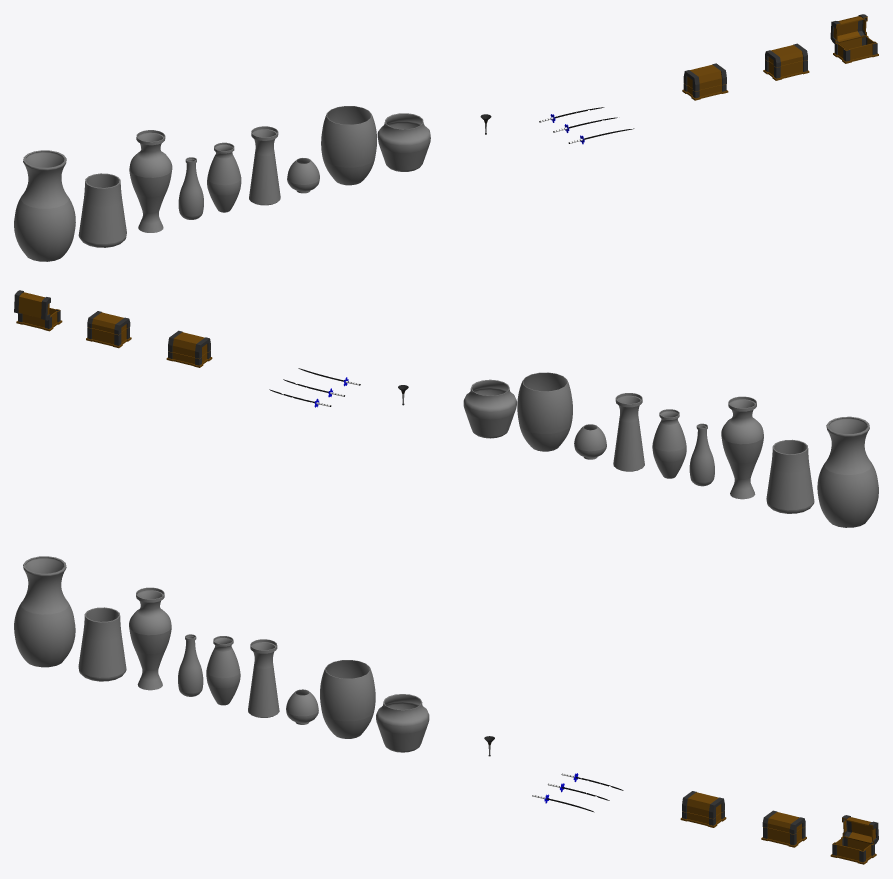
Rendered from deneme2.fbx.
The picture shows the model from 3 angles, top to bottom: view 1: azimuth 30°, elevation 25°; view 2: azimuth 150°, elevation 25°; view 3: azimuth 330°, elevation 25°; orthographic projection.
Parts seen in each view (by area): view 1: Shape020, Shape019, Layer:0, Shape013, Shape018, Shape017, Shape015, Shape014, Box001, Shape016, Box004, Box005; view 2: Shape020, Shape019, Shape013, Layer:0, Shape018, Shape017, Shape015, Shape014, Shape016, Box001, Box005; view 3: Shape020, Shape019, Layer:0, Shape013, Shape018, Shape017, Shape015, Shape014, Shape016, Box001, Box004, Box005.
Boxes of the visible parts, x1,y1,x2,y2 form: Shape020: (14, 150, 75, 261); Shape019: (321, 106, 376, 185); Layer:0: (78, 173, 126, 247); Shape013: (129, 130, 172, 232); Shape018: (377, 113, 430, 171); Shape017: (249, 126, 280, 205); Shape015: (207, 142, 241, 212); Shape014: (178, 157, 203, 219); Box001: (682, 65, 728, 100); Shape016: (287, 158, 319, 193); Box004: (833, 35, 878, 63); Box005: (833, 16, 867, 43); Shape020: (817, 416, 878, 527); Shape019: (517, 372, 572, 451); Shape013: (721, 396, 763, 499); Layer:0: (766, 439, 814, 513); Shape018: (463, 379, 516, 438); Shape017: (613, 393, 644, 471); Shape015: (652, 409, 686, 478); Shape014: (689, 423, 714, 486); Shape016: (574, 424, 606, 459); Box001: (166, 332, 212, 367); Box005: (18, 292, 49, 318); Shape020: (14, 556, 75, 667); Shape019: (320, 660, 375, 738); Layer:0: (78, 607, 126, 681); Shape013: (129, 587, 171, 690); Shape018: (376, 694, 429, 752); Shape017: (248, 639, 279, 717); Shape015: (206, 636, 240, 705); Shape014: (178, 634, 203, 696); Shape016: (286, 689, 318, 724); Box001: (680, 792, 726, 827); Box004: (830, 836, 876, 864); Box005: (842, 817, 875, 844).
Size of the model in its own units: 2743 by 305 by 192.
